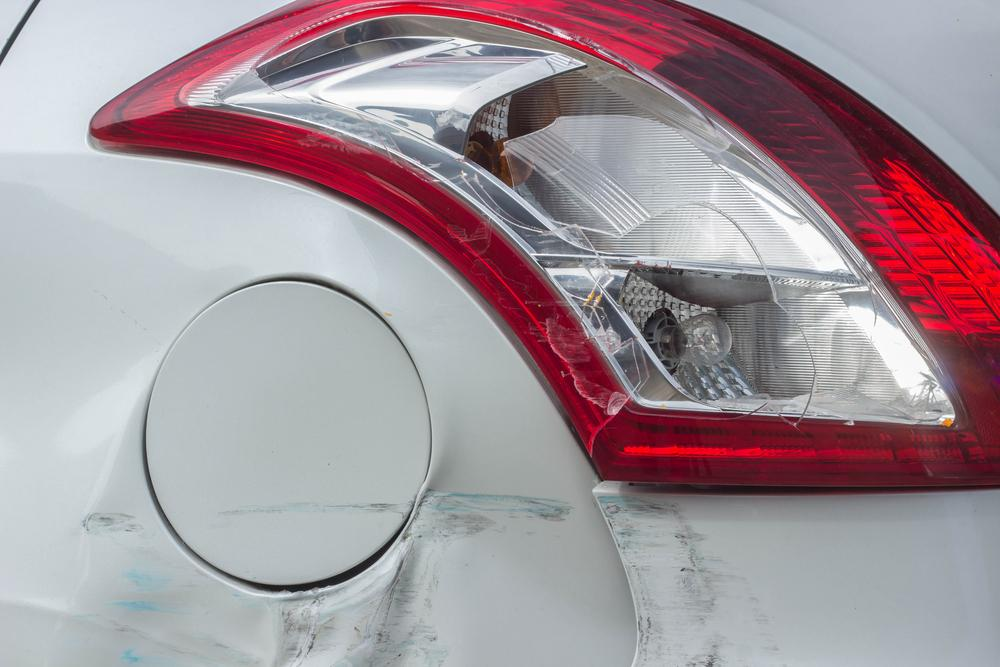dent: (52, 399, 637, 667)
lamp broken: (93, 0, 1000, 492)
scratch: (600, 490, 789, 667)
